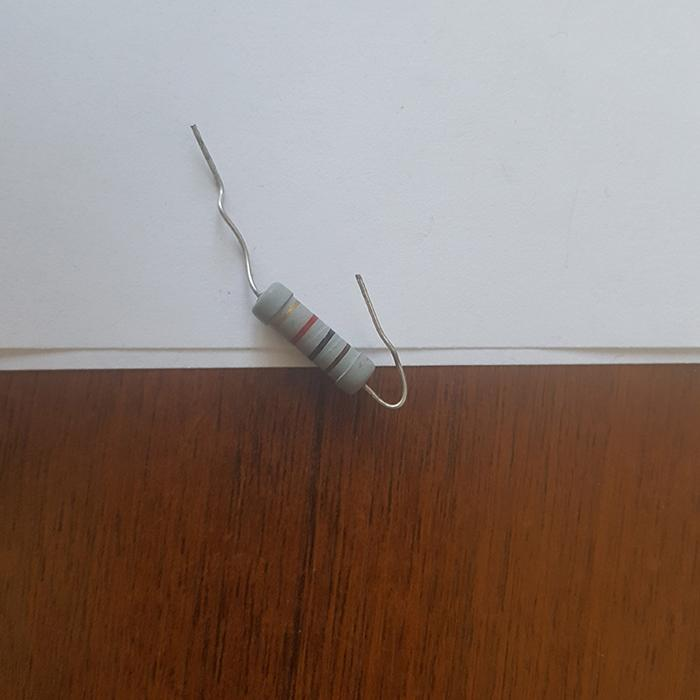resistor: (251, 280, 374, 394)
